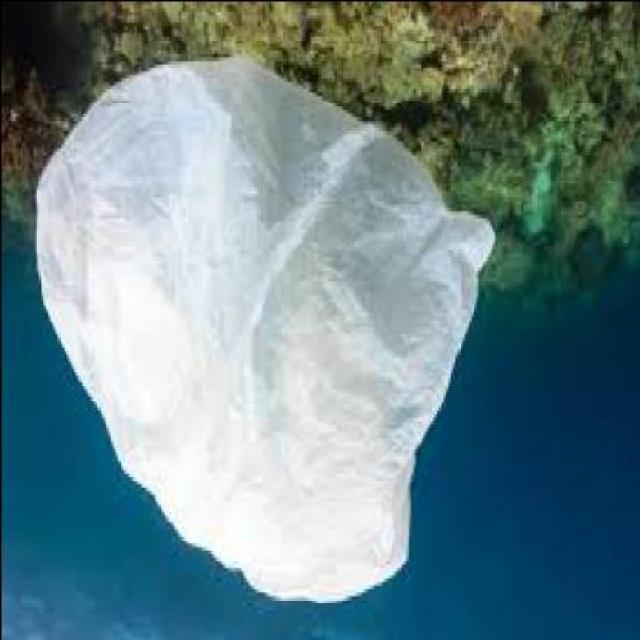PLASTIC: (30, 60, 492, 605)
